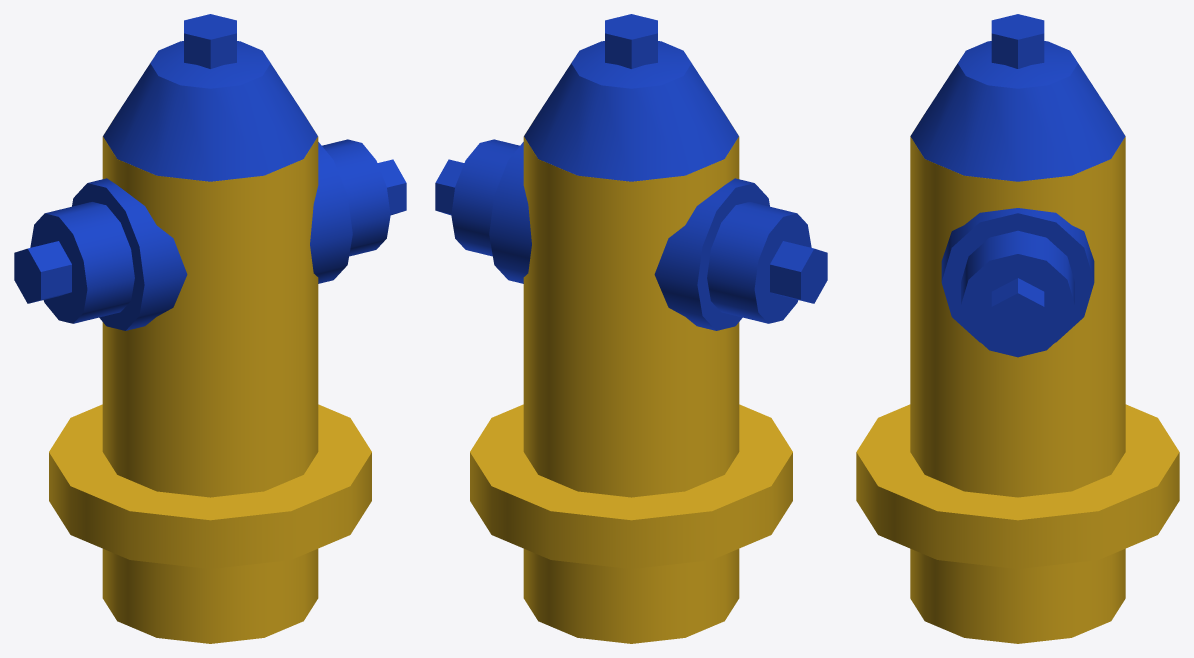
Rendered from fire-hydrant.obj.
3 views of the same model, side by side, from view 1: azimuth 30°, elevation 25°; view 2: azimuth 150°, elevation 25°; view 3: azimuth 270°, elevation 25° (orthographic).
Parts seen in each view (by area): view 1: Cylinder.2, Cylinder.1, Cylinder.5, Cylinder, Cylinder.3, Cylinder.7, Cylinder.4, Cylinder.6; view 2: Cylinder.2, Cylinder.1, Cylinder.5, Cylinder, Cylinder.3, Cylinder.7, Cylinder.4, Cylinder.6; view 3: Cylinder.2, Cylinder.1, Cylinder.5, Cylinder, Cylinder.3, Cylinder.7, Cylinder.4, Cylinder.6.
Part boxes in pixels (left/top/right/bottom): Cylinder.2: left=102, top=114, right=318, bottom=497; Cylinder.1: left=49, top=404, right=371, bottom=568; Cylinder.5: left=103, top=41, right=317, bottom=181; Cylinder: left=102, top=549, right=318, bottom=643; Cylinder.3: left=30, top=139, right=390, bottom=323; Cylinder.7: left=72, top=142, right=352, bottom=330; Cylinder.4: left=14, top=159, right=406, bottom=303; Cylinder.6: left=184, top=14, right=236, bottom=68; Cylinder.2: left=523, top=114, right=739, bottom=497; Cylinder.1: left=470, top=404, right=792, bottom=568; Cylinder.5: left=524, top=41, right=738, bottom=181; Cylinder: left=523, top=549, right=739, bottom=643; Cylinder.3: left=451, top=139, right=811, bottom=323; Cylinder.7: left=489, top=142, right=769, bottom=330; Cylinder.4: left=435, top=159, right=827, bottom=303; Cylinder.6: left=605, top=14, right=657, bottom=68; Cylinder.2: left=910, top=129, right=1125, bottom=497; Cylinder.1: left=856, top=404, right=1179, bottom=568; Cylinder.5: left=910, top=41, right=1125, bottom=181; Cylinder: left=910, top=549, right=1125, bottom=643; Cylinder.3: left=961, top=230, right=1074, bottom=357; Cylinder.7: left=941, top=208, right=1094, bottom=342; Cylinder.4: left=991, top=278, right=1044, bottom=348; Cylinder.6: left=991, top=14, right=1044, bottom=68.
Size of the model in its own units: 78.38 by 117 by 60.
